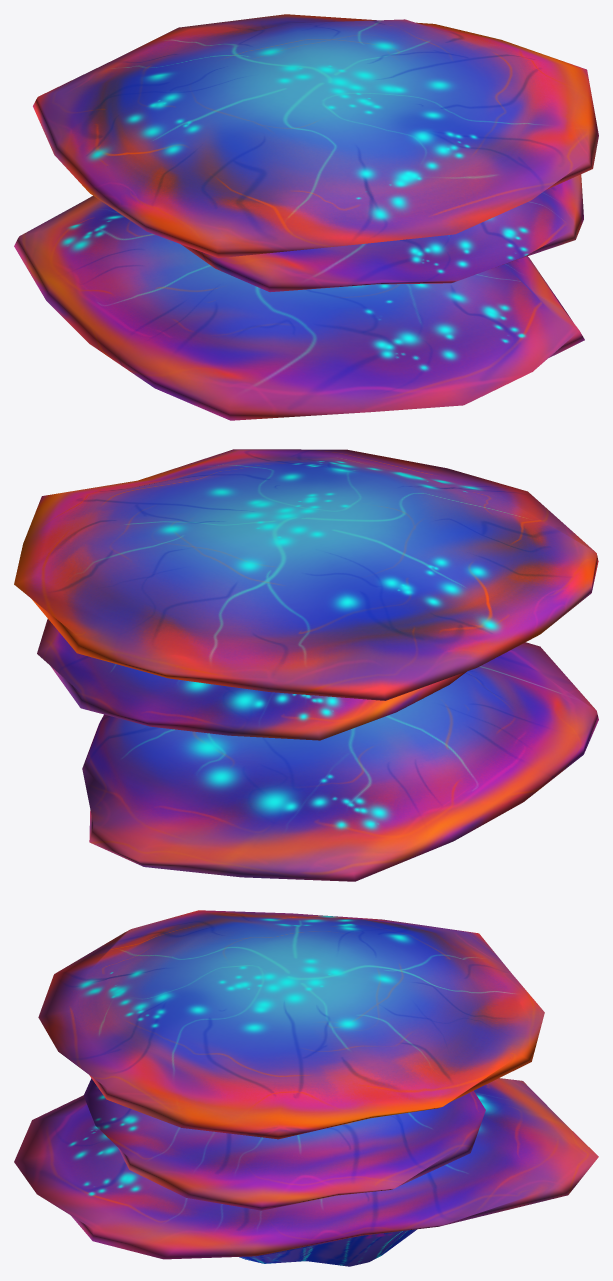
The model's file is normal shroom.fbx.
The picture shows the model from 3 angles, top to bottom: view 1: azimuth 30°, elevation 25°; view 2: azimuth 150°, elevation 25°; view 3: azimuth 270°, elevation 25°; orthographic projection. The views are drawn at different scales.
Visible parts, largest first — view 1: polySurface1; view 2: polySurface1; view 3: polySurface1.
Part boxes in pixels (box(x1,y1,x2,y2)): polySurface1: box(14, 14, 598, 420); polySurface1: box(14, 449, 598, 881); polySurface1: box(14, 910, 598, 1266).
Size of the model in its own units: 3.67 by 2.12 by 4.12.
